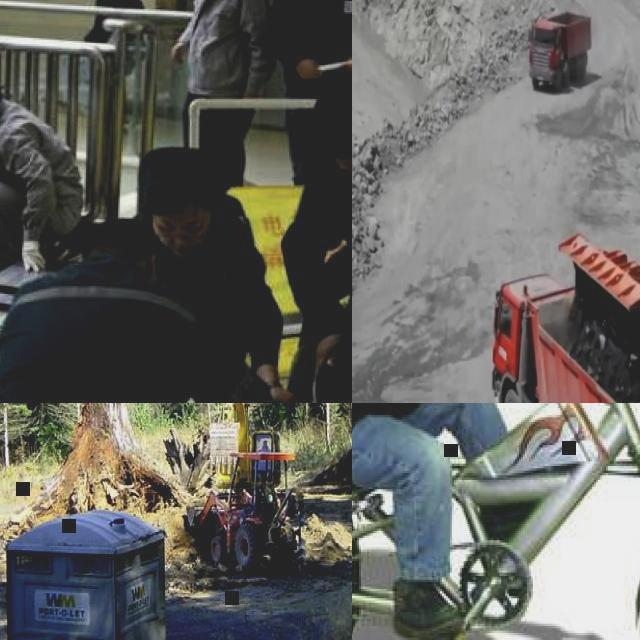machinery: (491, 269, 640, 403), (557, 231, 640, 403), (187, 451, 305, 571), (193, 403, 283, 494), (528, 4, 592, 92)
no_helmet: (143, 158, 223, 208), (309, 76, 352, 154), (80, 218, 156, 256)
no_mask: (162, 237, 206, 259)
no_vest: (0, 265, 193, 403), (160, 220, 242, 342), (0, 115, 80, 200), (184, 0, 256, 94), (281, 0, 352, 73), (95, 0, 141, 34)
person: (0, 215, 276, 403), (352, 403, 569, 637), (132, 146, 290, 403), (280, 74, 352, 403), (168, 0, 274, 192), (0, 62, 81, 285), (269, 0, 352, 184), (84, 0, 145, 132), (260, 441, 270, 451)
vest: (261, 446, 269, 452)
